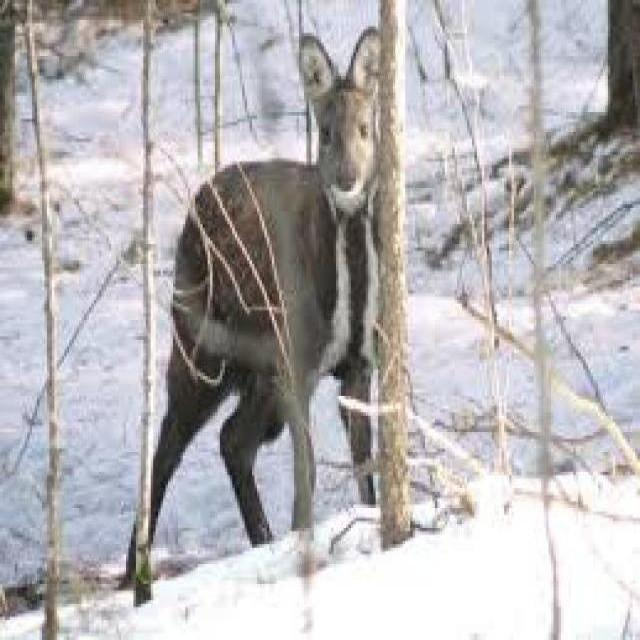deer: (100, 5, 388, 592)
